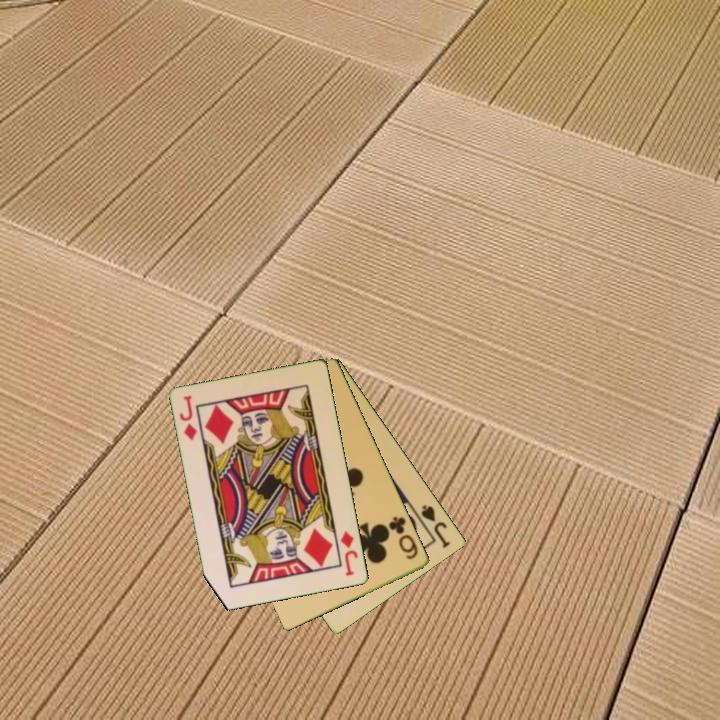6c: (385, 513, 421, 562)
Jd: (176, 392, 200, 443), (338, 527, 361, 579)
Js: (418, 501, 453, 551)
